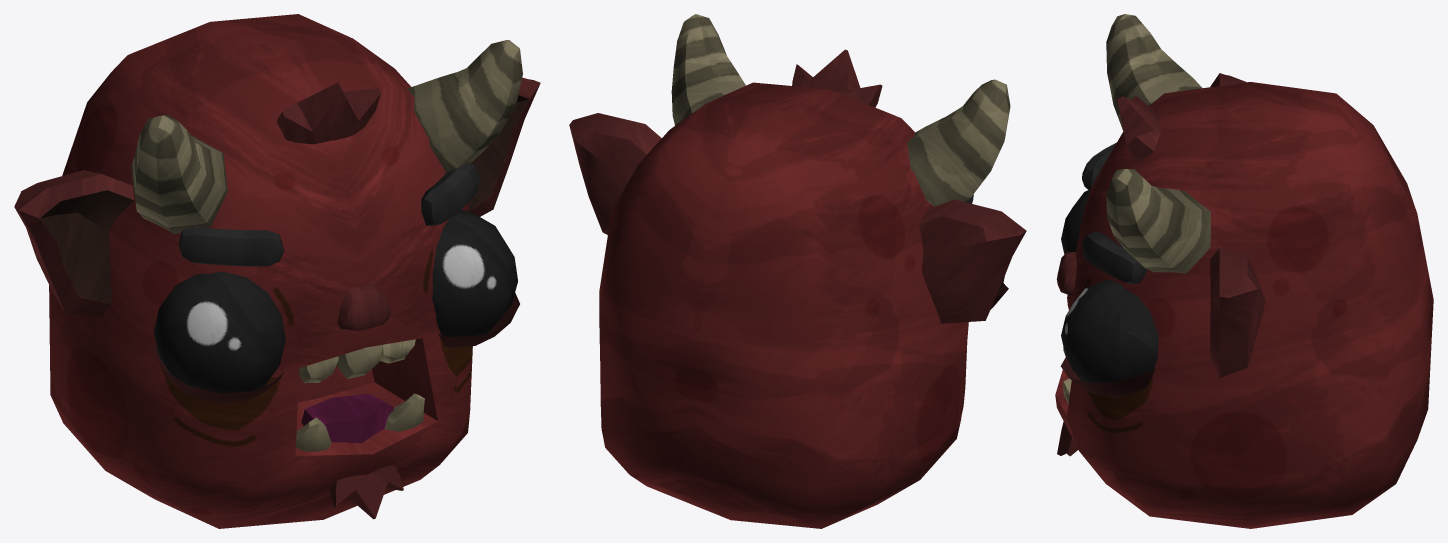
The model's file is demon.glb.
3 views of the same model, side by side, from view 1: azimuth 30°, elevation 25°; view 2: azimuth 150°, elevation 25°; view 3: azimuth 270°, elevation 25° (orthographic). The views are drawn at different scales.
Visible parts, largest first — view 1: Demon.001_Cube.001; view 2: Demon.001_Cube.001; view 3: Demon.001_Cube.001.
Part boxes in pixels (x1,y1,x2,y2): Demon.001_Cube.001: [14, 14, 540, 528]; Demon.001_Cube.001: [569, 14, 1026, 528]; Demon.001_Cube.001: [1055, 14, 1433, 528].
Size of the model in its own units: 1.98 by 1.7 by 1.42.
1 material, 1 textured.
